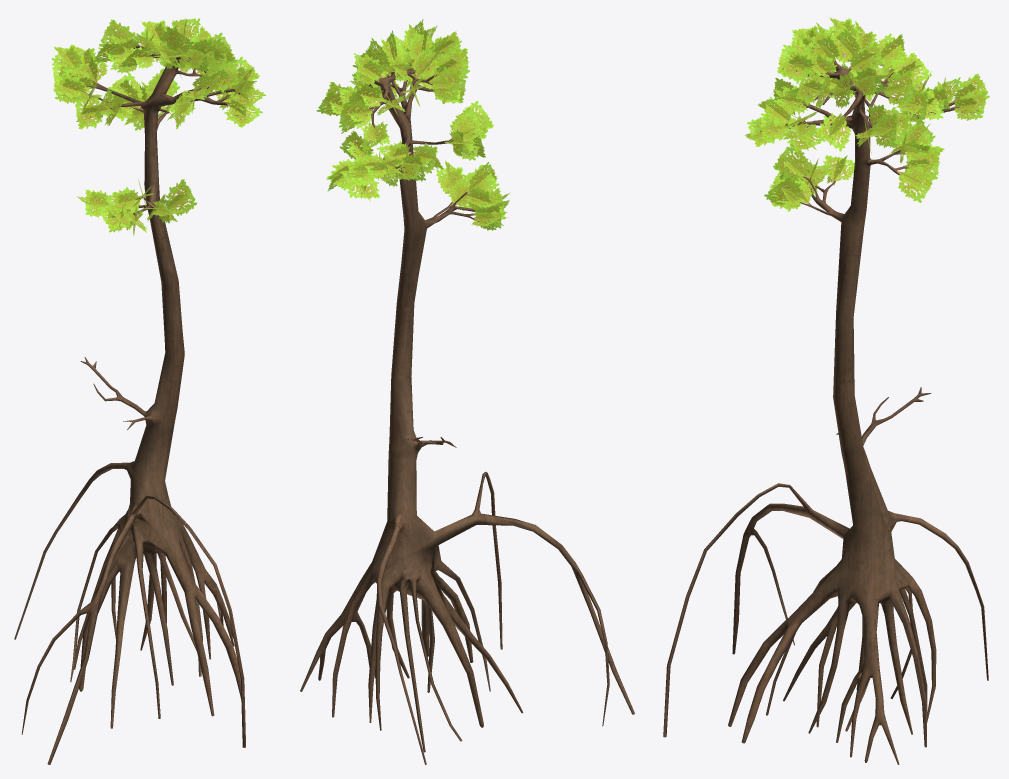
3 renders of one model, left to right at view 1: azimuth 30°, elevation 25°; view 2: azimuth 150°, elevation 25°; view 3: azimuth 270°, elevation 25°, orthographic. The views are drawn at different scales.
Visible parts, largest first — view 1: CHA_ENV_TallMangrove, Leaves; view 2: CHA_ENV_TallMangrove, Leaves; view 3: CHA_ENV_TallMangrove, Leaves.
Part boxes in pixels (x1,y1,x2,y2): CHA_ENV_TallMangrove: (14,44,245,764); Leaves: (51,18,265,236); CHA_ENV_TallMangrove: (300,52,634,764); Leaves: (316,19,510,230); CHA_ENV_TallMangrove: (663,49,988,764); Leaves: (744,17,989,211).
Size of the model in its own units: 12.08 by 30.77 by 12.9.
Materials: 2 (2 with a texture image).
